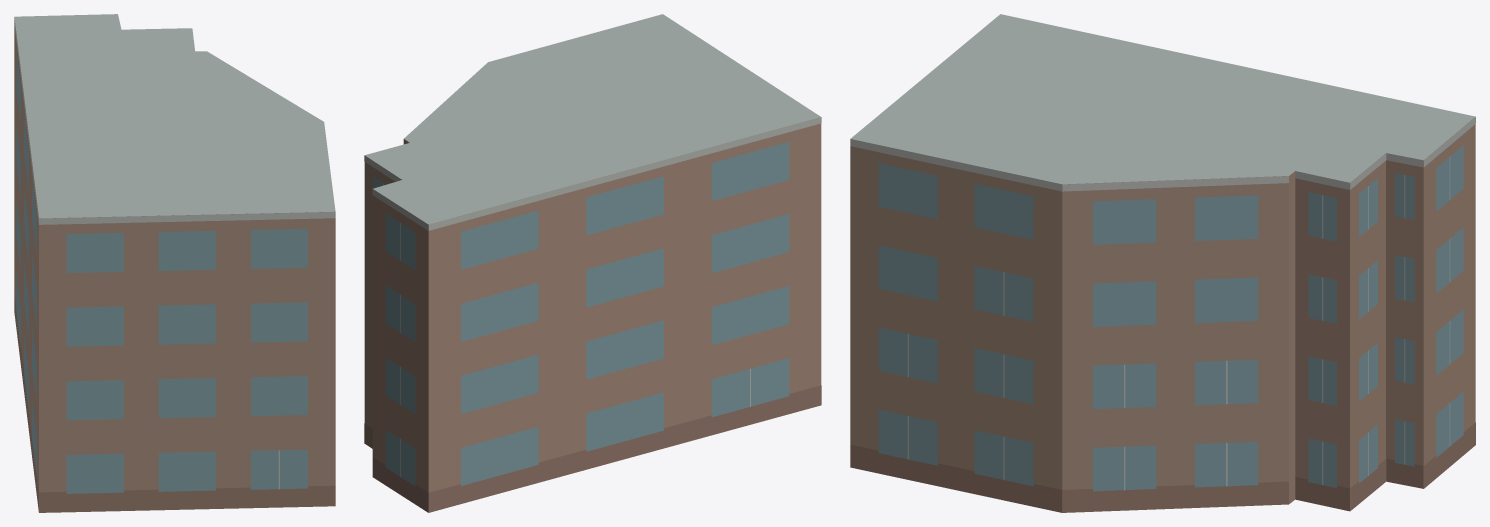
The model's file is survey-upis-33023419.glb.
The picture shows the model from 3 angles, left to right: view 1: azimuth 30°, elevation 25°; view 2: azimuth 150°, elevation 25°; view 3: azimuth 270°, elevation 25°; orthographic projection. The views are drawn at different scales.
Parts seen in each view (by area): view 1: survey-upis-33023419.tmp; view 2: survey-upis-33023419.tmp; view 3: survey-upis-33023419.tmp.
Part boxes in pixels (x1,y1,x2,y2): survey-upis-33023419.tmp: [14, 14, 335, 512]; survey-upis-33023419.tmp: [364, 14, 821, 512]; survey-upis-33023419.tmp: [850, 14, 1475, 512].
Size of the model in its own units: 12.35 by 11.1 by 19.16.
